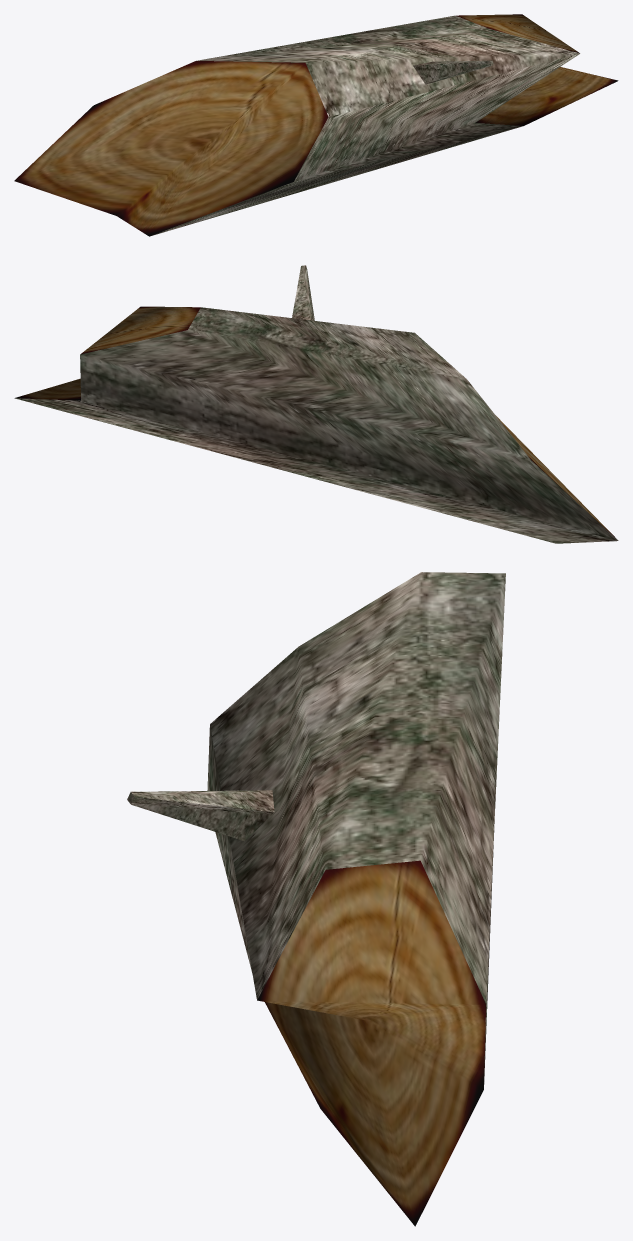
File: gen_log04.fbx
3 renders of one model, top to bottom at view 1: azimuth 30°, elevation 25°; view 2: azimuth 150°, elevation 25°; view 3: azimuth 270°, elevation 25°, orthographic. The views are drawn at different scales.
Visible parts, largest first — view 1: lod_high; view 2: lod_high; view 3: lod_high.
Part boxes in pixels (box(x1,y1,x2,y2)): lod_high: box(14, 14, 618, 236); lod_high: box(14, 265, 618, 543); lod_high: box(127, 572, 505, 1226).
Bounding box in the file's own units: 783 × 174 × 220.
Materials: 1 (1 with a texture image).
